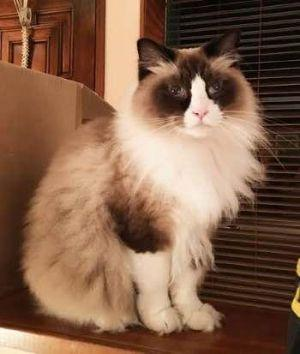ragdoll: (129, 29, 255, 142)
